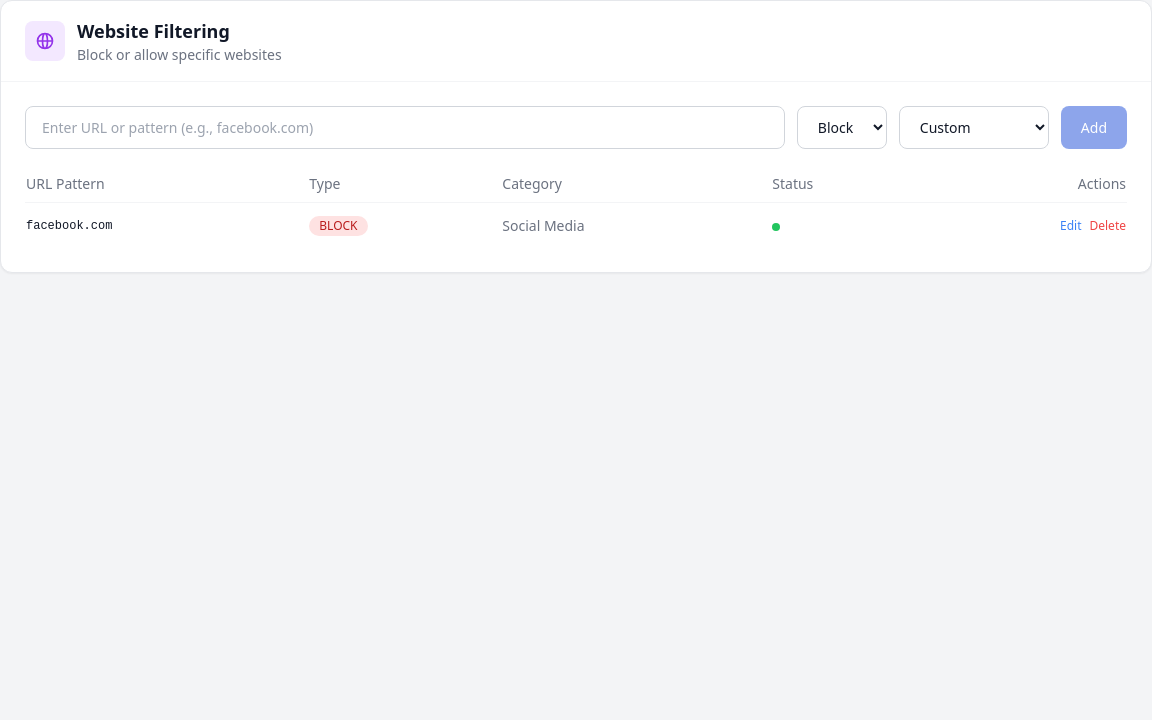
Test case: WebsiteFilterSection › opens confirm dialog when delete is clicked
Click the button "Delete". click: (1108, 226)
box: [1090,218,1126,234]
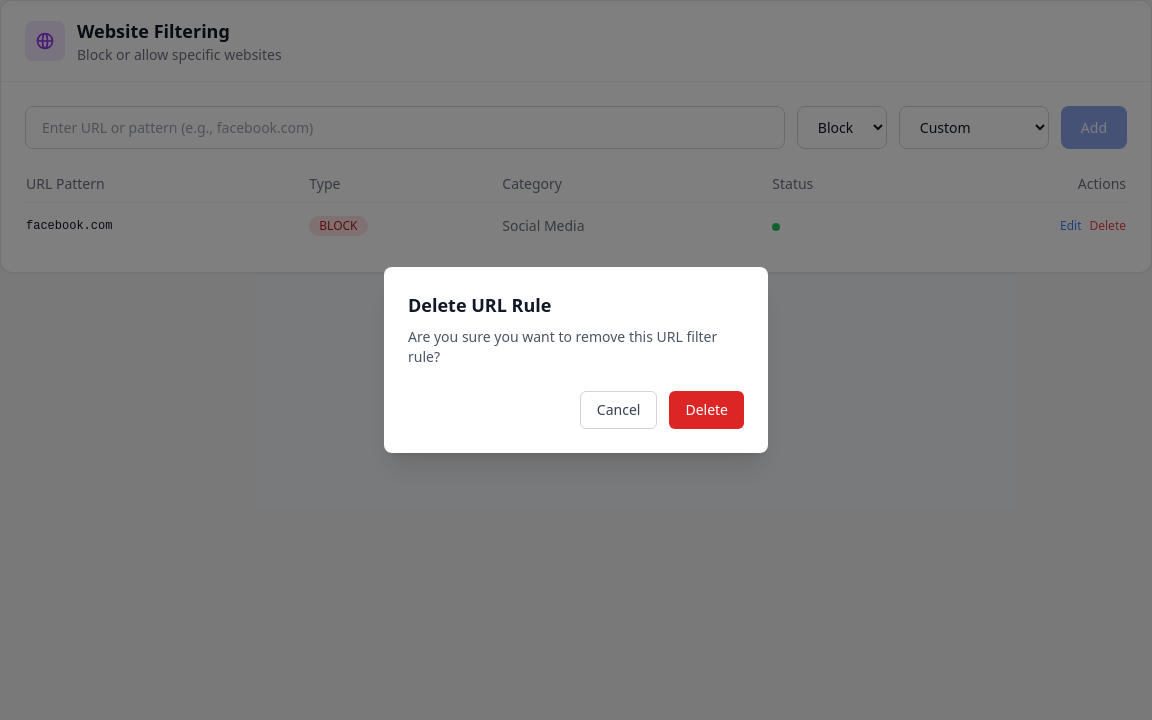
Check: the dialog is shown, box [384,267,768,453]
Check: the heading "Delete URL Rule" is shown, box [408,293,551,317]
